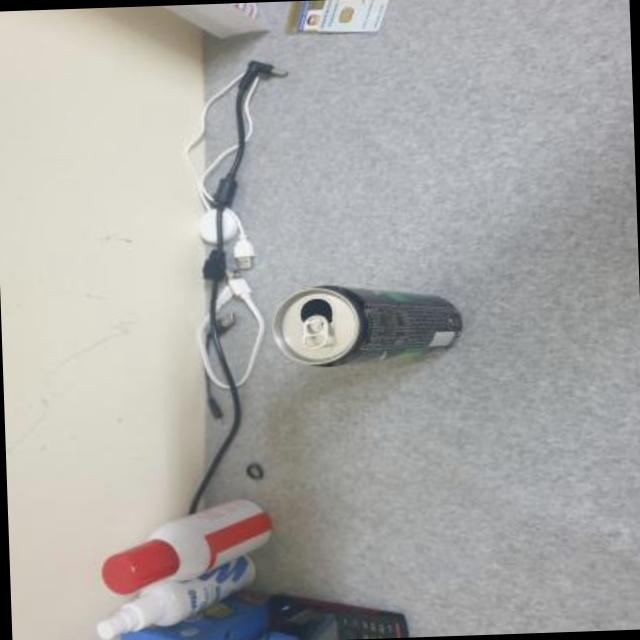metal: (270, 289, 457, 368)
